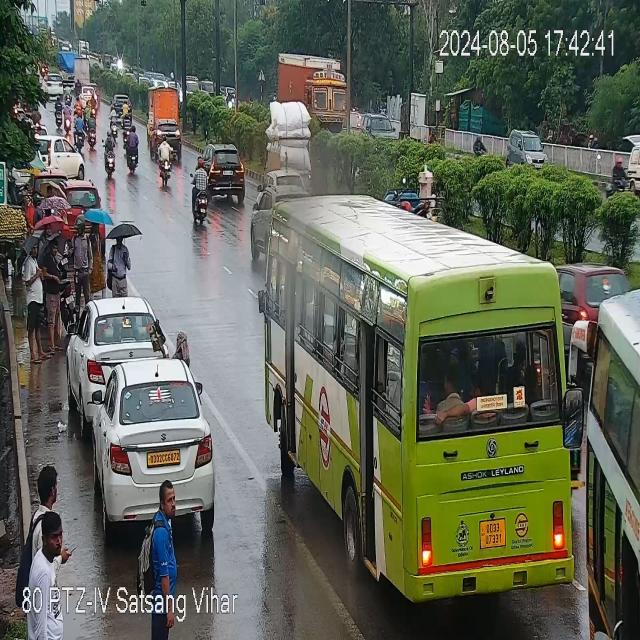2-wheelers: (604, 156, 640, 207), (191, 167, 219, 226), (155, 138, 180, 182), (124, 130, 144, 174), (99, 129, 118, 175), (86, 108, 100, 150), (108, 104, 118, 132), (121, 102, 131, 128)
bus: (255, 203, 576, 615), (571, 260, 636, 622)
car: (87, 354, 218, 525), (70, 298, 174, 398), (201, 145, 246, 200), (503, 129, 553, 171), (36, 134, 88, 174), (255, 168, 309, 201), (45, 72, 68, 101)
pedestrian: (16, 461, 69, 640), (134, 484, 189, 640), (20, 238, 52, 359), (40, 232, 60, 354), (70, 217, 96, 295), (105, 224, 130, 293), (72, 110, 86, 149)
truck: (269, 53, 358, 128), (145, 82, 182, 145)
